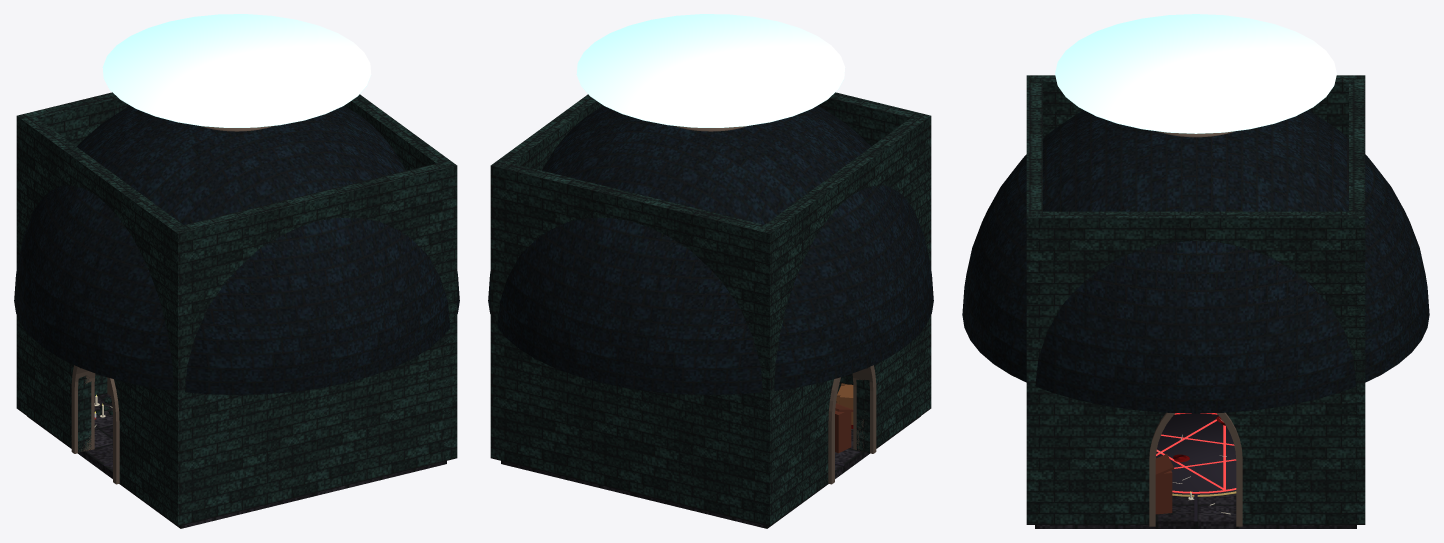
The model's file is room_1.glb.
The picture shows the model from 3 angles, left to right: view 1: azimuth 30°, elevation 25°; view 2: azimuth 150°, elevation 25°; view 3: azimuth 270°, elevation 25°; orthographic projection. The views are drawn at different scales.
Parts seen in each view (by area): view 1: vault_dome, wall_S, wall_W_door, sky_disc, wall_E_door, wall_N, cathedral_floor, door_frame_W; view 2: vault_dome, wall_N, wall_W_door, sky_disc, wall_S, wall_E_door, door_frame_W, cathedral_floor, lectern_0; view 3: vault_dome, wall_E_door, sky_disc, wall_S, wall_N, ritual_ring_mask, cathedral_floor, wall_W_door, door_frame_E, lectern_1.
Part boxes in pixels (x1=…): vault_dome: x1=14, y1=105, x2=459, y2=394; wall_S: x1=170, y1=160, x2=457, y2=526; wall_W_door: x1=16, y1=112, x2=190, y2=525; sky_disc: x1=102, y1=14, x2=371, y2=127; wall_E_door: x1=344, y1=94, x2=457, y2=460; wall_N: x1=17, y1=92, x2=129, y2=410; cathedral_floor: x1=27, y1=393, x2=446, y2=528; door_frame_W: x1=71, y1=365, x2=119, y2=484; vault_dome: x1=488, y1=105, x2=933, y2=394; wall_N: x1=490, y1=160, x2=777, y2=526; wall_W_door: x1=756, y1=112, x2=931, y2=524; sky_disc: x1=576, y1=14, x2=845, y2=127; wall_S: x1=818, y1=92, x2=929, y2=406; wall_E_door: x1=491, y1=94, x2=603, y2=280; door_frame_W: x1=828, y1=365, x2=876, y2=484; cathedral_floor: x1=501, y1=393, x2=920, y2=528; lectern_0: x1=835, y1=403, x2=851, y2=453; vault_dome: x1=962, y1=110, x2=1429, y2=413; wall_E_door: x1=1026, y1=211, x2=1365, y2=524; sky_disc: x1=1055, y1=14, x2=1336, y2=133; wall_S: x1=1026, y1=76, x2=1042, y2=524; wall_N: x1=1349, y1=75, x2=1365, y2=524; ritual_ring_mask: x1=1156, y1=413, x2=1236, y2=491; cathedral_floor: x1=1035, y1=493, x2=1356, y2=528; wall_W_door: x1=1026, y1=75, x2=1365, y2=138; door_frame_E: x1=1149, y1=412, x2=1242, y2=526; lectern_1: x1=1155, y1=470, x2=1172, y2=514.
Size of the model in its own units: 11.6 by 10.61 by 11.6.
26 materials, 3 textured.
